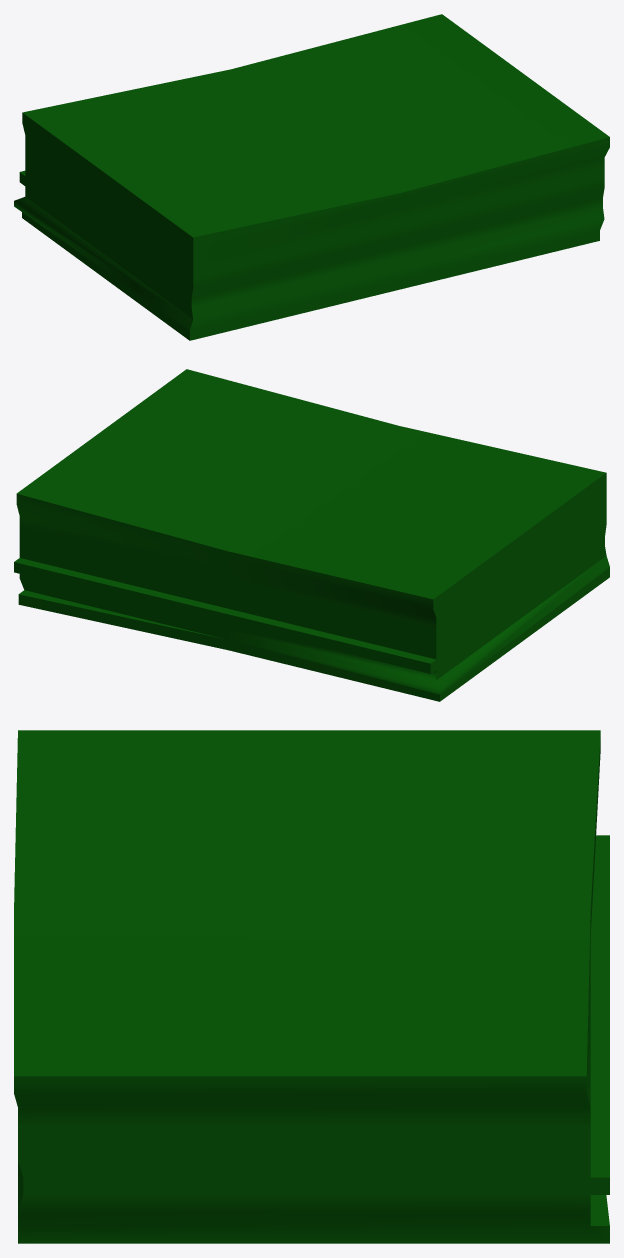
Rendered from various01.FBX.
The picture shows the model from 3 angles, top to bottom: view 1: azimuth 30°, elevation 25°; view 2: azimuth 150°, elevation 25°; view 3: azimuth 270°, elevation 25°; orthographic projection. The views are drawn at different scales.
Visible parts, largest first — view 1: SM_various01_0; view 2: SM_various01_0; view 3: SM_various01_0.
Boxes of the visible parts, x1=… form: SM_various01_0: x1=14, y1=14, x2=609, y2=340; SM_various01_0: x1=14, y1=369, x2=609, y2=701; SM_various01_0: x1=14, y1=730, x2=609, y2=1243.
Bounding box in the file's own units: 43.26 × 30.91 × 10.
